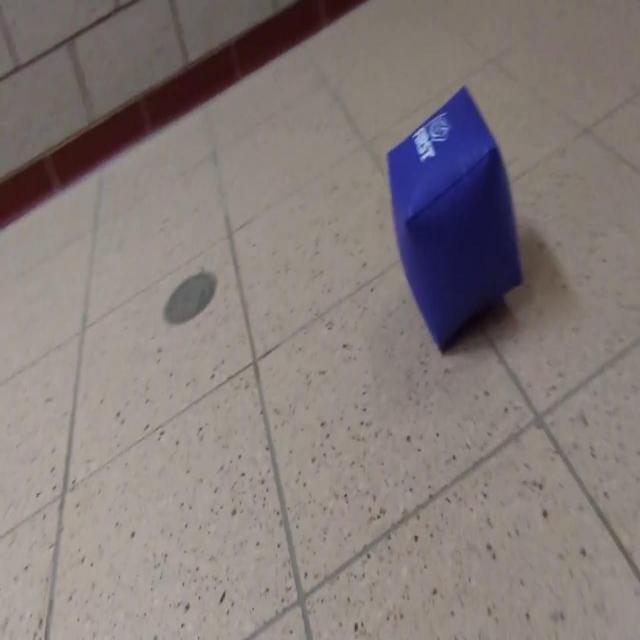frc_cube: (385, 87, 523, 344)
